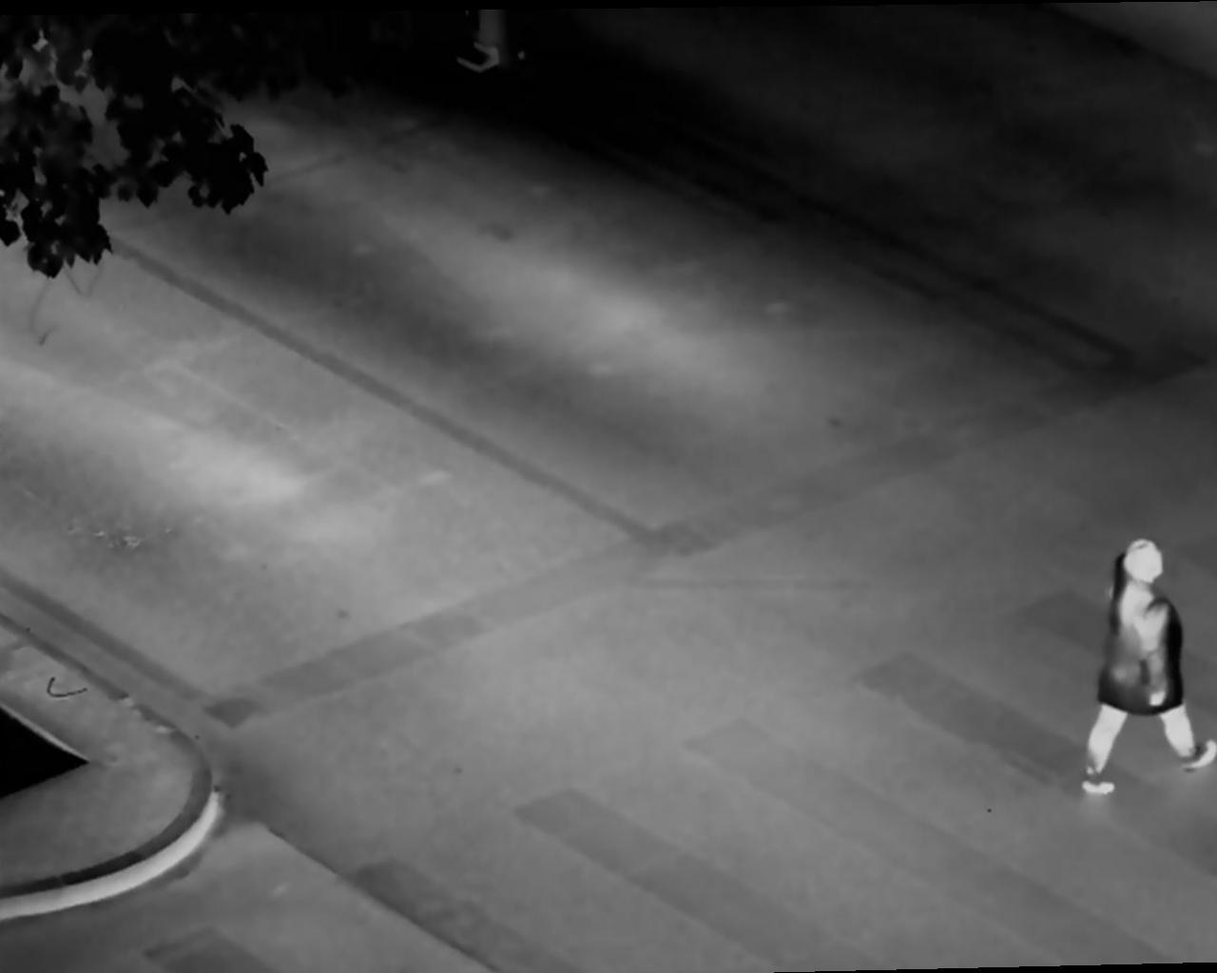person: (1077, 527, 1217, 787)
